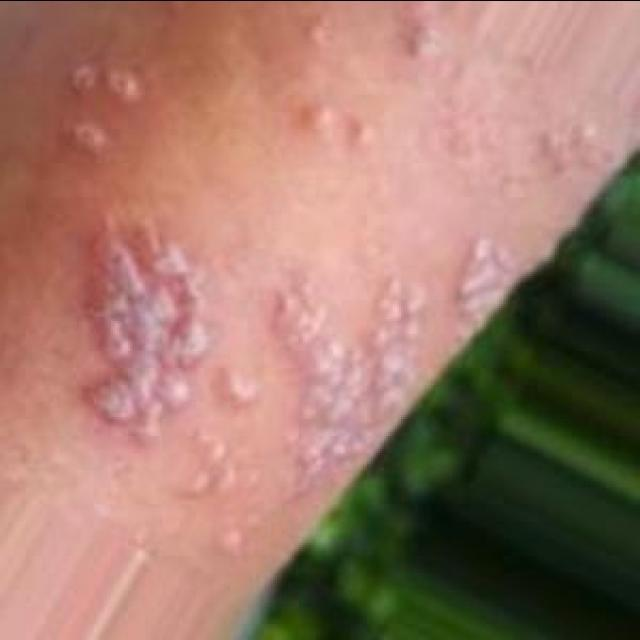Shingles: (268, 266, 423, 495), (85, 219, 214, 448), (71, 60, 142, 151), (460, 232, 517, 327)
